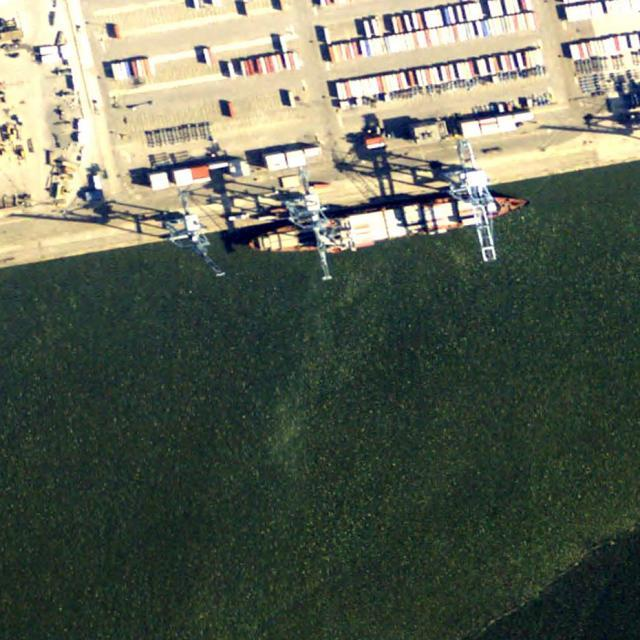Container Ship: (242, 183, 533, 268)
